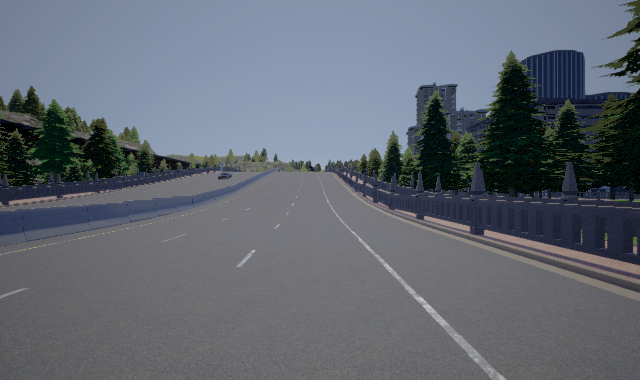vehicle: (217, 171, 232, 179)
